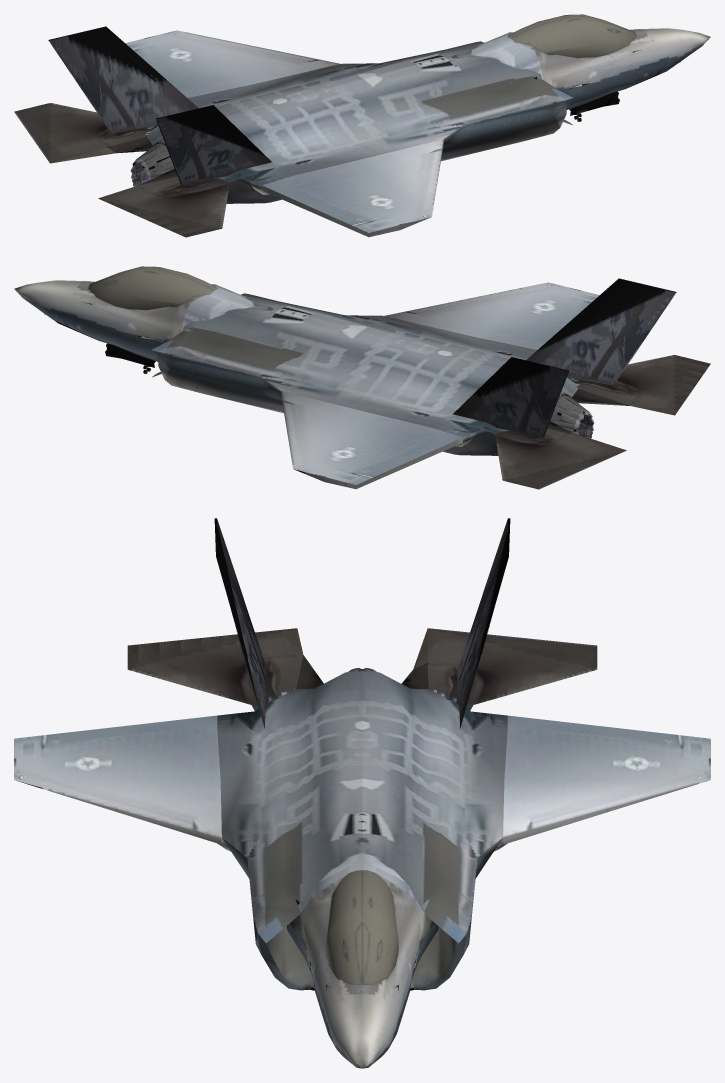
3 renders of one model, top to bottom at view 1: azimuth 30°, elevation 25°; view 2: azimuth 150°, elevation 25°; view 3: azimuth 270°, elevation 25°, orthographic. The views are drawn at different scales.
Parts seen in each view (by area): view 1: g_f35_hull; view 2: g_f35_hull; view 3: g_f35_hull.
Part boxes in pixels (x1,y1,x2,y2): g_f35_hull: [14, 14, 710, 237]; g_f35_hull: [14, 266, 710, 489]; g_f35_hull: [14, 518, 710, 1068].
Size of the model in its own units: 15.7 by 3.72 by 10.9.
Materials: 1 (1 with a texture image).
